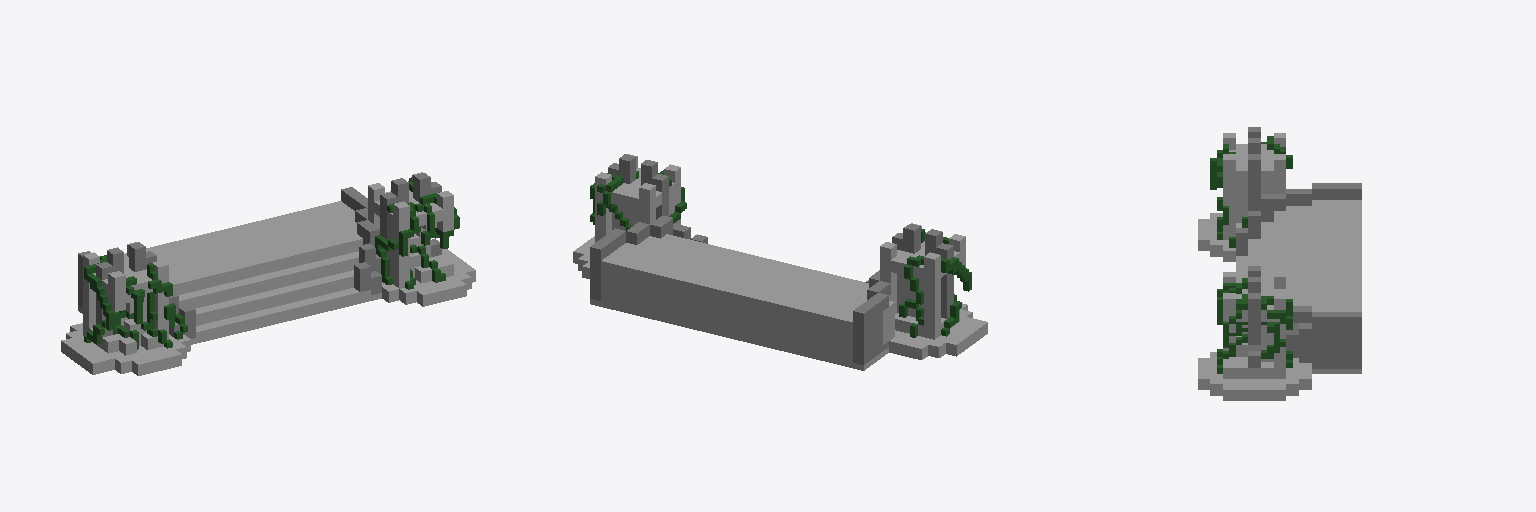
The picture shows the model from 3 angles: view 1: azimuth 30°, elevation 25°; view 2: azimuth 150°, elevation 25°; view 3: azimuth 270°, elevation 25°; orthographic projection.
Visible parts, largest first — view 1: object 1; view 2: object 1; view 3: object 1.
Boxes of the visible parts, x1=… form: object 1: x1=61, y1=172, x2=475, y2=375; object 1: x1=573, y1=154, x2=987, y2=370; object 1: x1=1198, y1=127, x2=1361, y2=400.
Bounding box in the file's own units: 7 × 1.8 × 2.6.
1 materials, 1 textured.